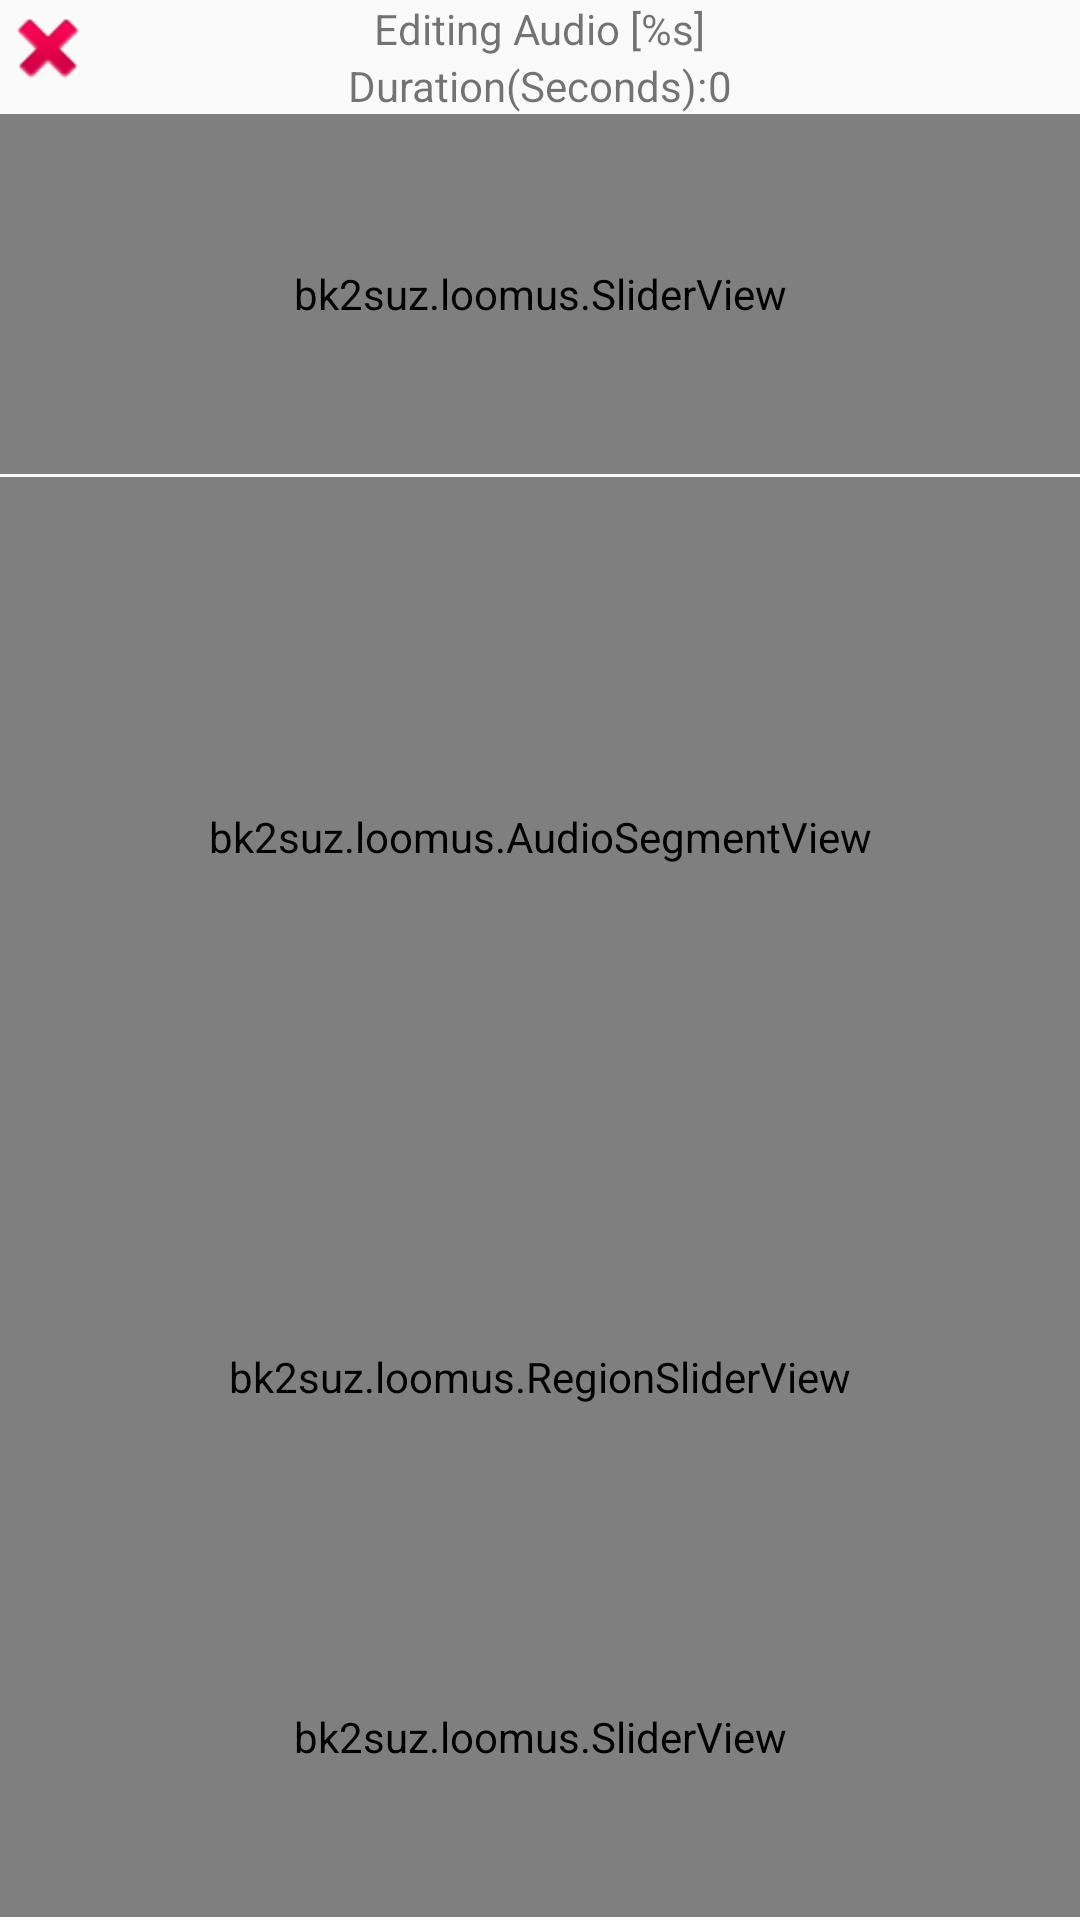

Point at icon controls on the screen. Image size 1080px×1920px, points as (x,y).
delete: (48,48)
